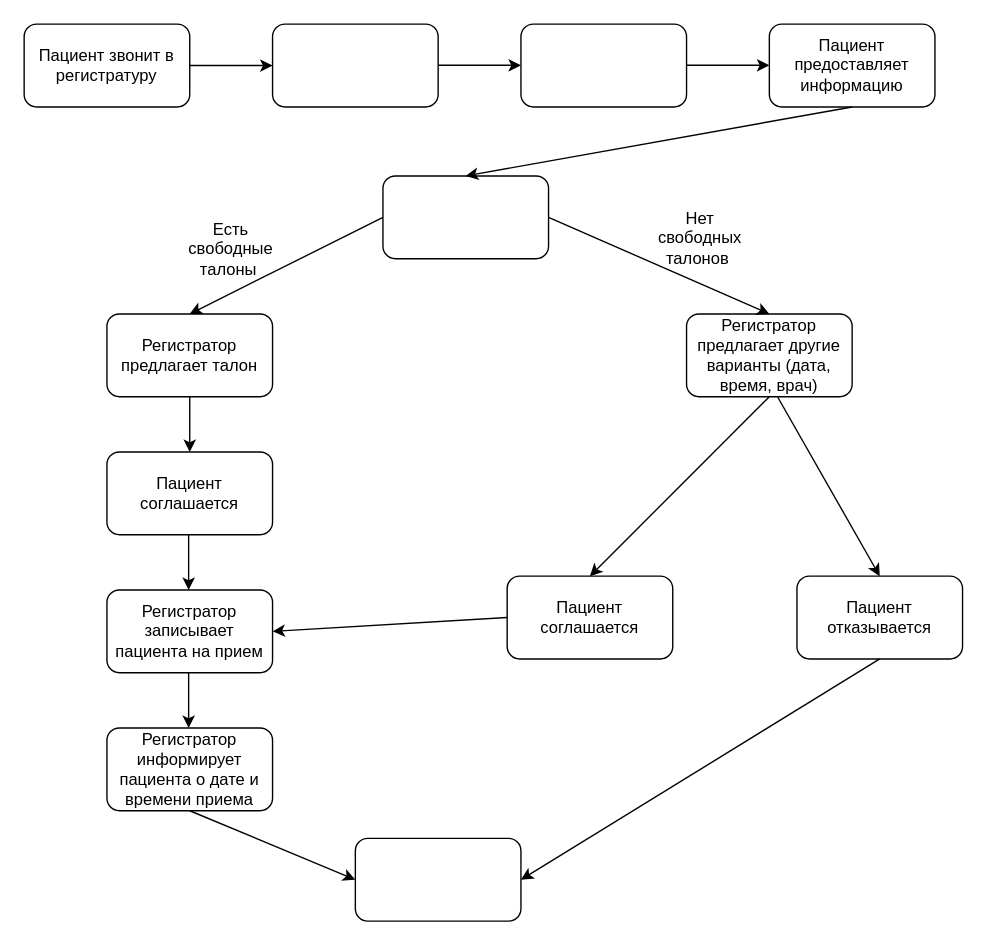
This 987x945 diagram has some shape labels left out. Each missing label, with the centre of its shape:
"Завершение разговора" belongs at pixel 437 879.
"Регистратор запрашивает информацию о пациенте" belongs at pixel 603 65.
"Регистратор отвечает на звонок" belongs at pixel 354 65.
"Регистратор проверяет наличие талонов" belongs at pixel 465 217.
